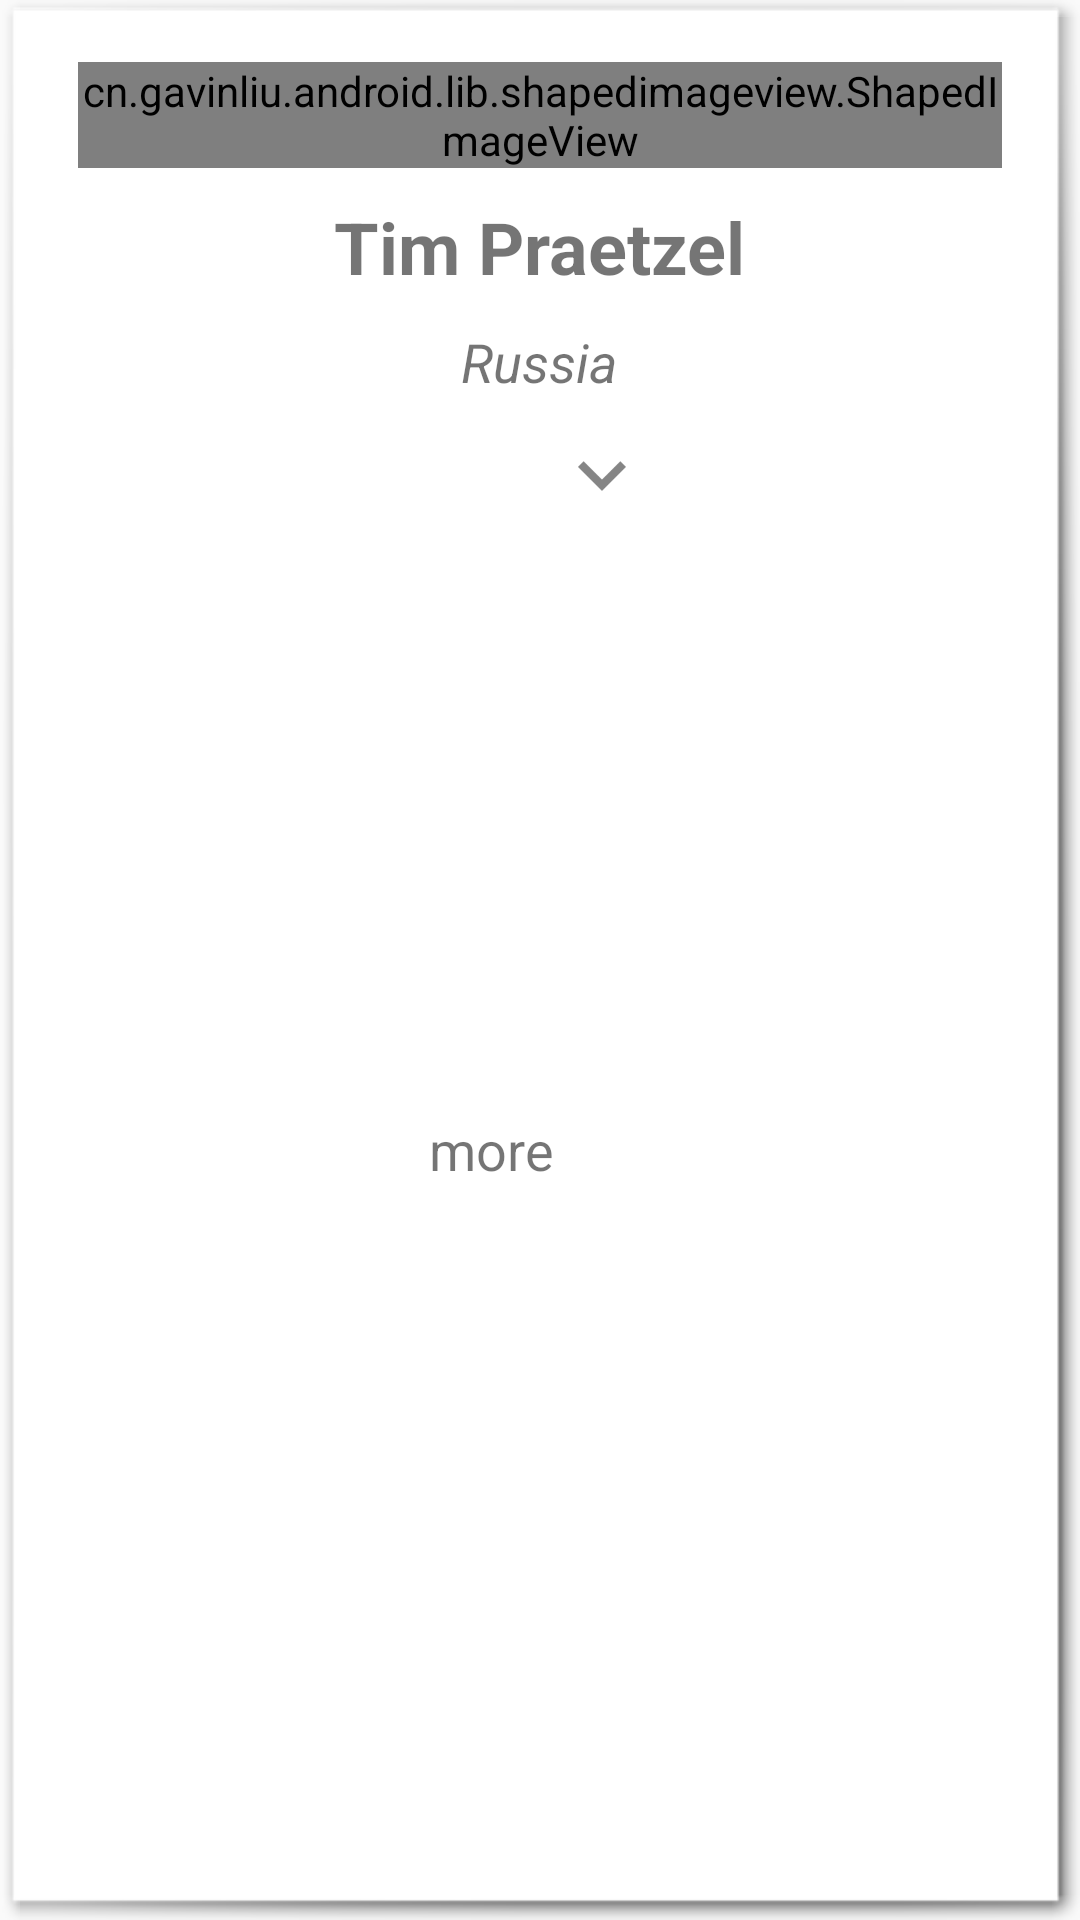

Where icons sit on this 1080px x 1920px app screen, as (x1, y1, x2, y2):
less more: (578, 461, 626, 491)
